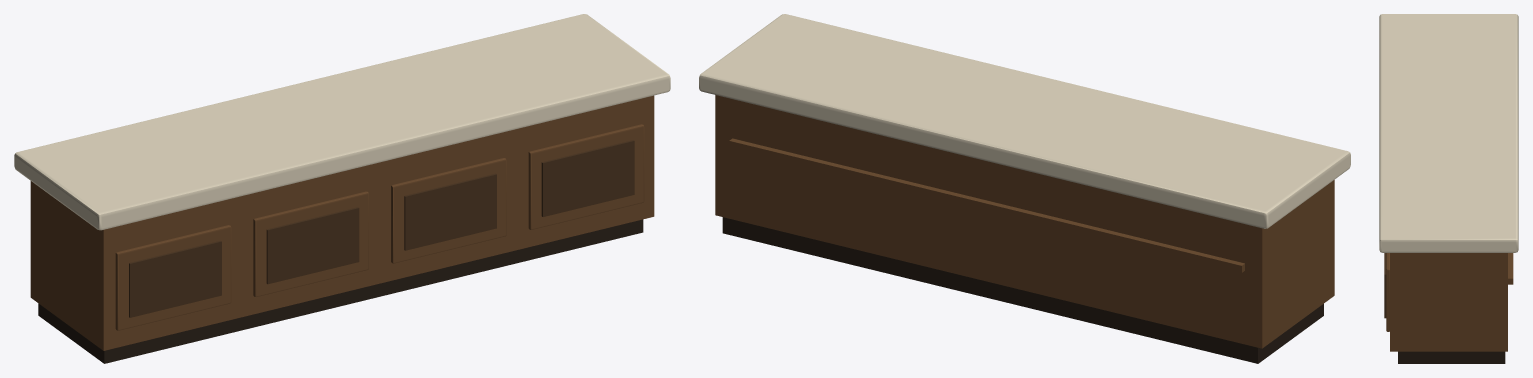
The model's file is counter.glb.
The picture shows the model from 3 angles, left to right: view 1: azimuth 30°, elevation 25°; view 2: azimuth 150°, elevation 25°; view 3: azimuth 270°, elevation 25°; orthographic projection. The views are drawn at different scales.
Visible parts, largest first — view 1: part-top, part-wood, part-panel-shadow, part-kick; view 2: part-wood, part-top, part-kick; view 3: part-top, part-wood, part-kick, part-panel-shadow.
Part boxes in pixels (box(x1,y1,x2,y2)): part-top: box(14, 14, 670, 230); part-wood: box(30, 95, 654, 350); part-panel-shadow: box(129, 140, 634, 317); part-kick: box(38, 219, 643, 363); part-wood: box(715, 95, 1334, 348); part-top: box(699, 14, 1350, 228); part-kick: box(722, 217, 1323, 363); part-top: box(1379, 14, 1518, 252); part-wood: box(1386, 253, 1513, 351); part-kick: box(1398, 351, 1505, 363); part-panel-shadow: box(1384, 253, 1386, 318).
Size of the model in its own units: 100 by 27 by 26.
